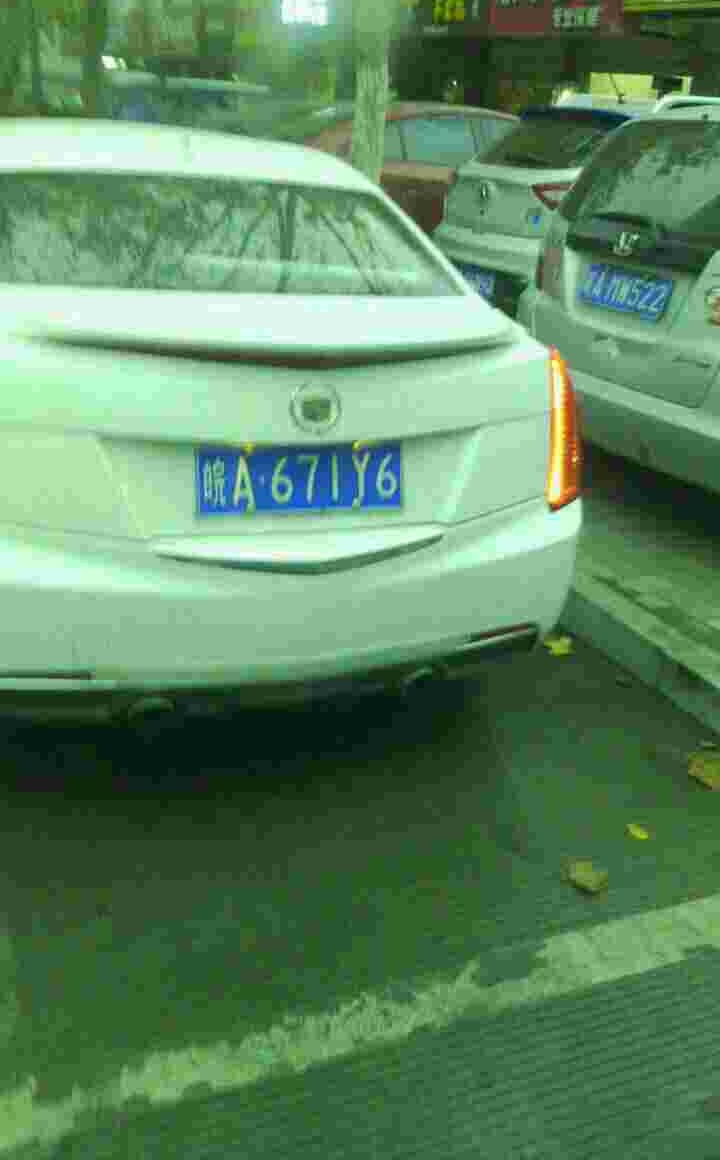license_plate: (199, 446, 405, 511)
